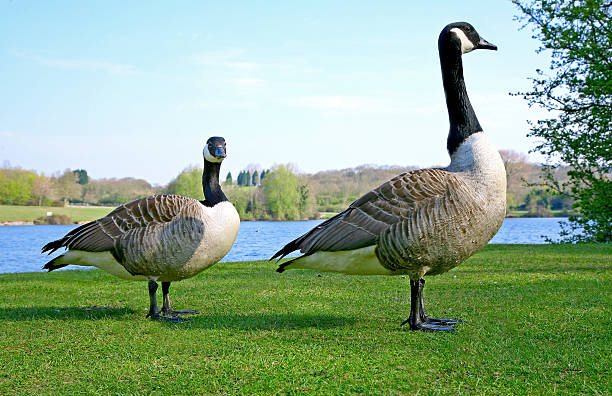goose: (265, 18, 509, 335), (36, 135, 243, 322)
